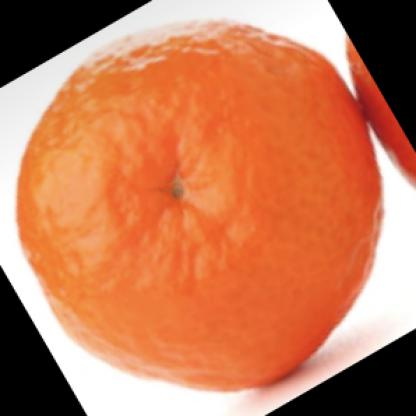orange: (7, 11, 384, 388)
